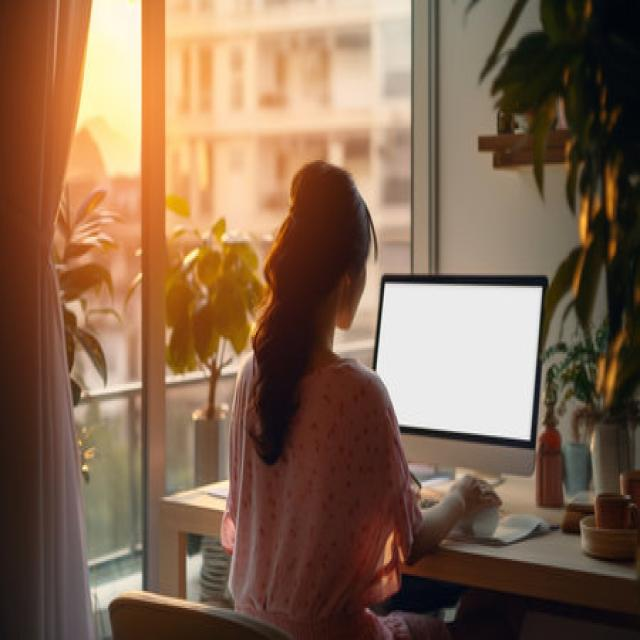desktop-person: (218, 144, 549, 640)
